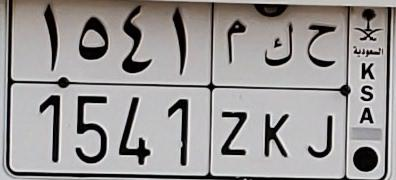1: (36, 3, 64, 164), (166, 5, 193, 167)
4: (117, 4, 153, 166)
5: (73, 15, 111, 165)
J: (306, 24, 337, 158)
K: (263, 21, 294, 159)
Z: (221, 19, 250, 156)
